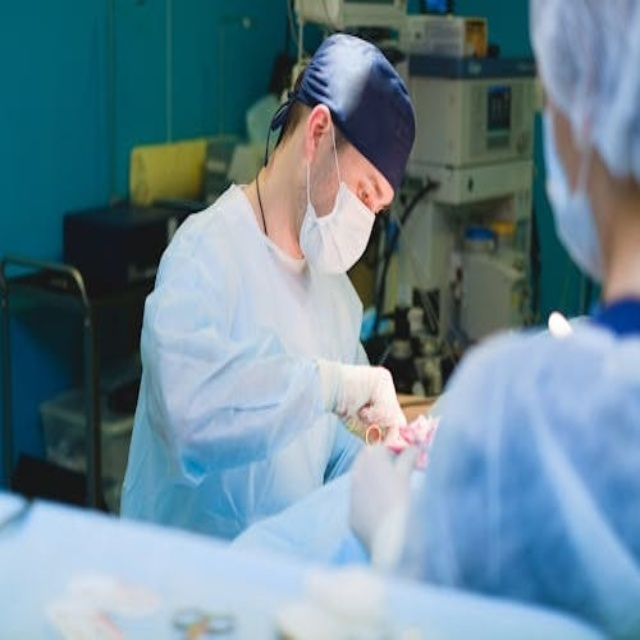Guantes: (306, 332, 406, 452), (347, 432, 421, 582)
Mascara: (299, 118, 376, 274), (544, 108, 608, 284)
Sin_gafas: (348, 165, 397, 225)
